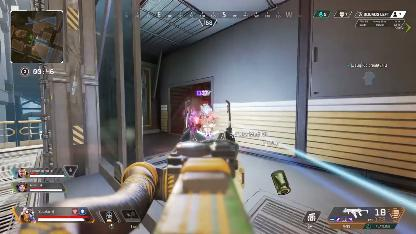Target: (182, 101, 196, 139), (198, 103, 214, 133)
